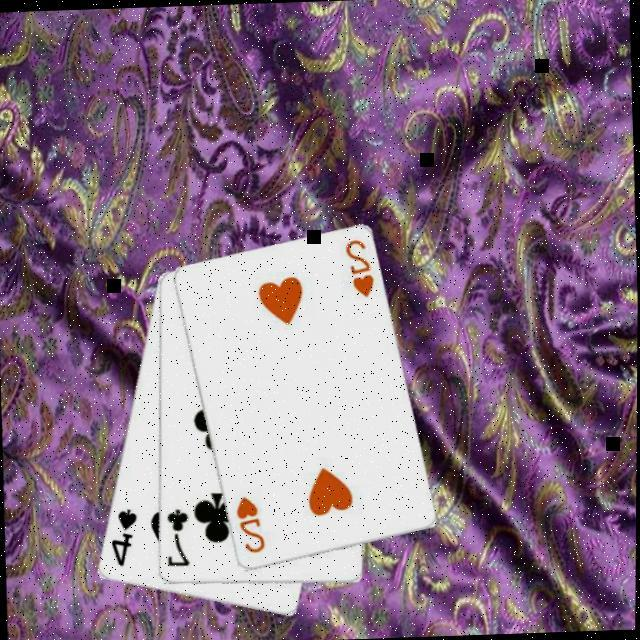2H: (342, 234, 378, 300), (233, 491, 269, 555)
4S: (108, 503, 142, 568)
7C: (164, 504, 194, 568)
